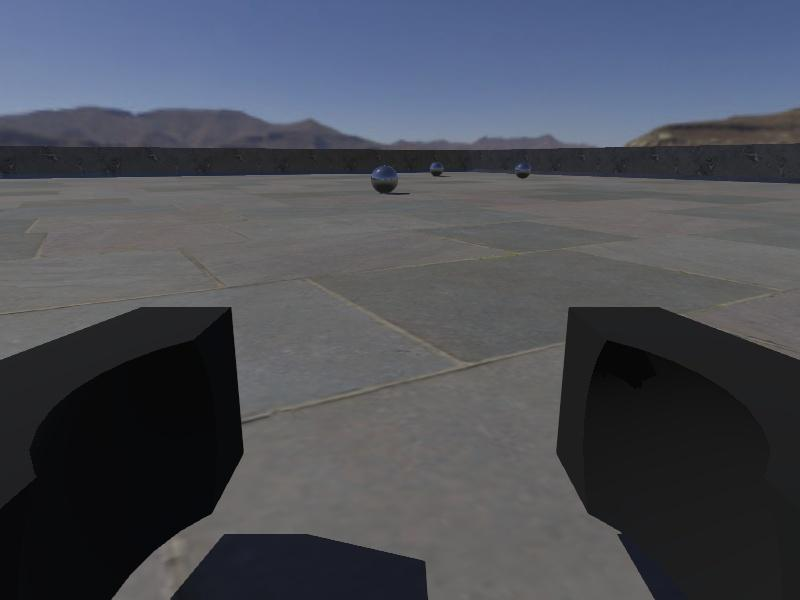steel ball: (370, 165, 398, 194), (514, 160, 532, 179), (428, 160, 444, 176)
